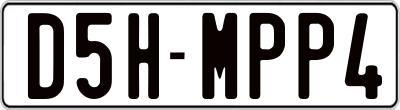4: (345, 10, 387, 96)
5: (74, 13, 111, 101)
D: (26, 10, 67, 98)
H: (127, 11, 158, 103)
M: (200, 13, 238, 100)
P: (298, 13, 336, 100), (249, 13, 285, 104)
